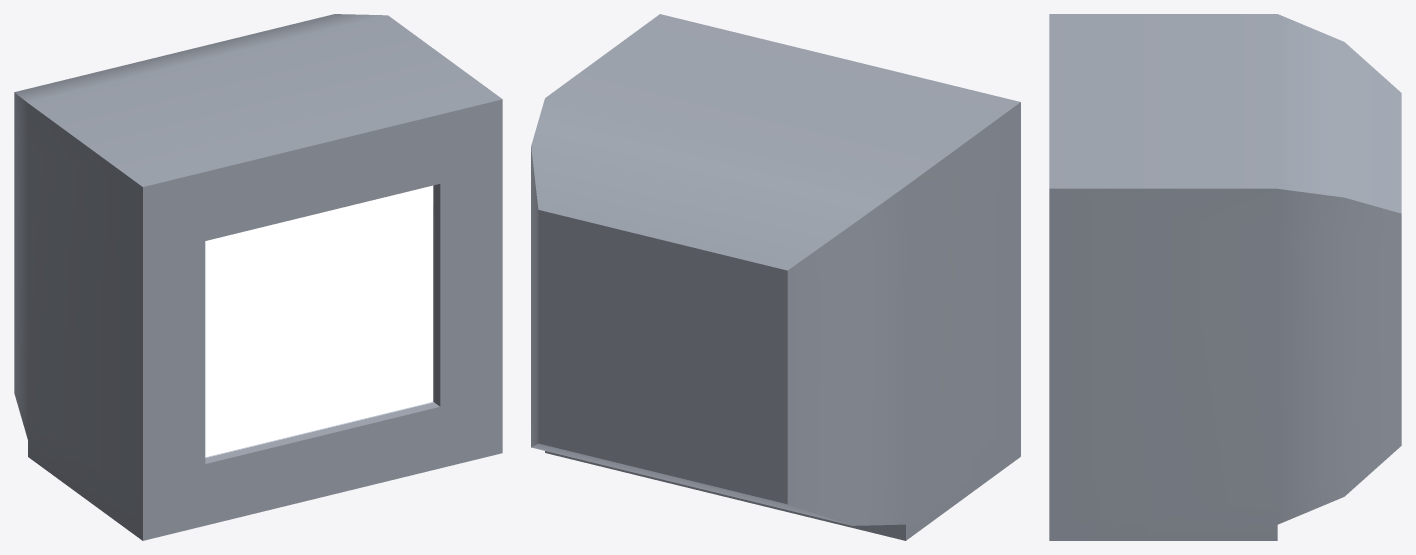
Rendered from display01.fbx.
The picture shows the model from 3 angles, left to right: view 1: azimuth 30°, elevation 25°; view 2: azimuth 150°, elevation 25°; view 3: azimuth 270°, elevation 25°; orthographic projection.
Visible parts, largest first — view 1: body; view 2: body; view 3: body.
Boxes of the visible parts, x1=… form: body: x1=14, y1=14, x2=502, y2=540; body: x1=531, y1=14, x2=1020, y2=540; body: x1=1049, y1=14, x2=1401, y2=540.
Size of the model in its own units: 7.82 by 7.35 by 6.66.
1 material, 1 textured.
